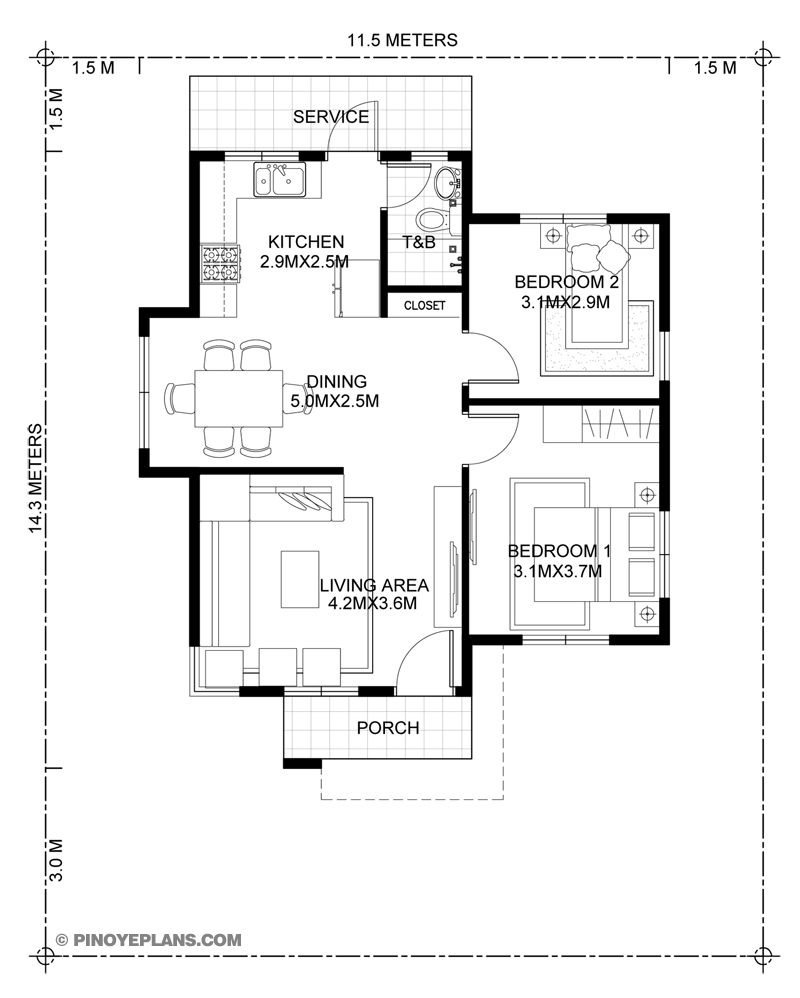window: (560, 631, 608, 648), (139, 339, 150, 398), (139, 395, 151, 448), (287, 685, 325, 701), (523, 211, 563, 224), (659, 556, 673, 593), (662, 333, 674, 376), (560, 210, 603, 222), (262, 151, 299, 164), (520, 635, 563, 645), (660, 513, 670, 553), (319, 687, 359, 696), (223, 148, 259, 158), (408, 151, 445, 158)
